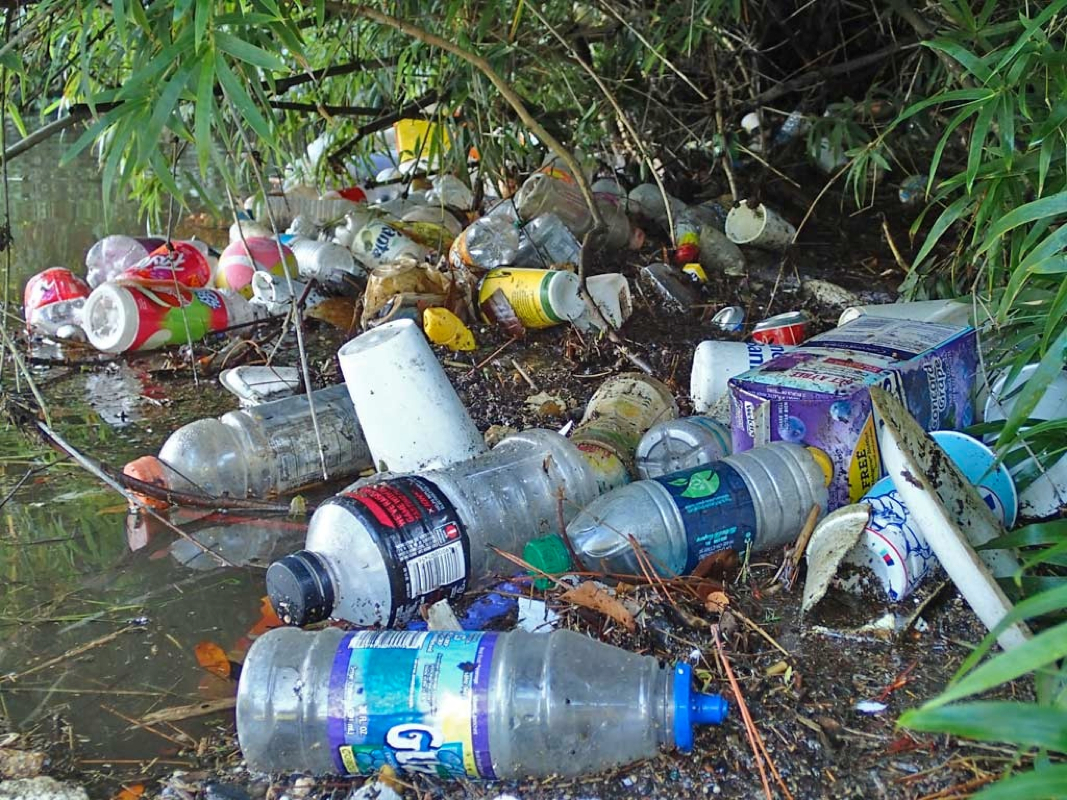garbage: (206, 213, 833, 770), (28, 228, 1014, 574), (226, 133, 742, 776), (372, 137, 833, 257)
